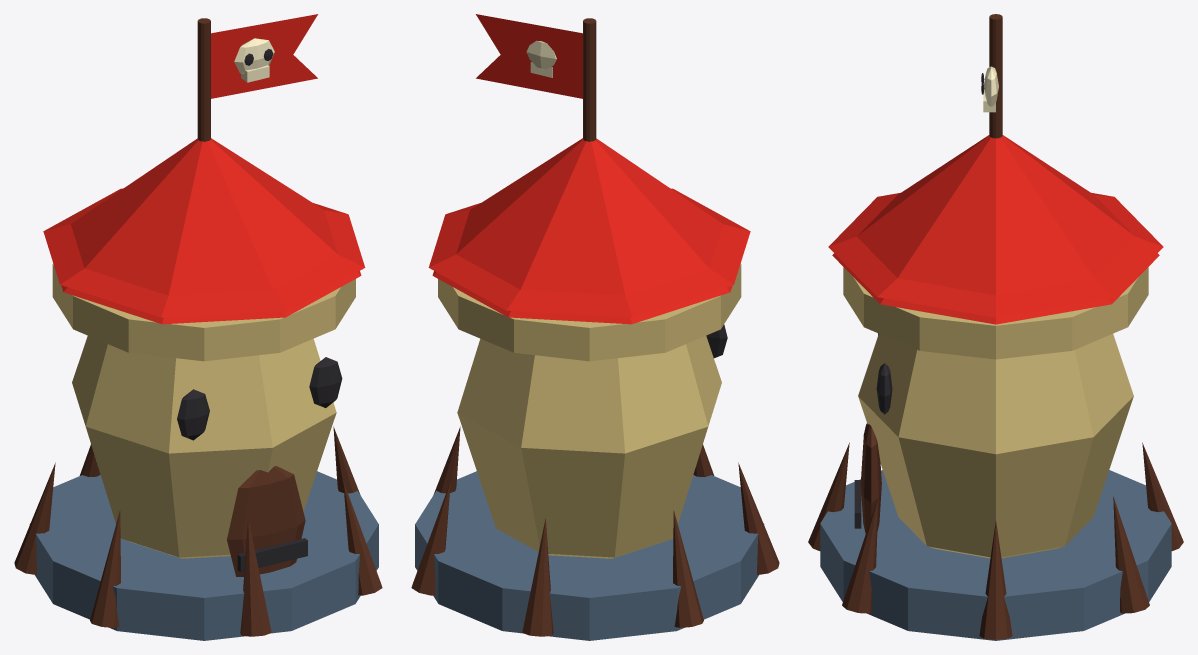
Rendered from tower.glb.
The picture shows the model from 3 angles, left to right: view 1: azimuth 30°, elevation 25°; view 2: azimuth 150°, elevation 25°; view 3: azimuth 270°, elevation 25°; orthographic projection.
Parts seen in each view (by area): view 1: tower_Surface, Big readable toy skull.002_Surface; view 2: tower_Surface, Big readable toy skull.002_Surface; view 3: tower_Surface, Big readable toy skull.002_Surface.
Boxes of the visible parts, bbox=[...] form: tower_Surface: bbox=[14, 14, 382, 640]; Big readable toy skull.002_Surface: bbox=[234, 38, 274, 82]; tower_Surface: bbox=[411, 14, 779, 640]; Big readable toy skull.002_Surface: bbox=[526, 40, 556, 77]; tower_Surface: bbox=[808, 14, 1183, 640]; Big readable toy skull.002_Surface: bbox=[981, 66, 998, 112].
Bounding box in the file's own units: 2.78 × 4.58 × 2.83.
1 material, 1 textured.
